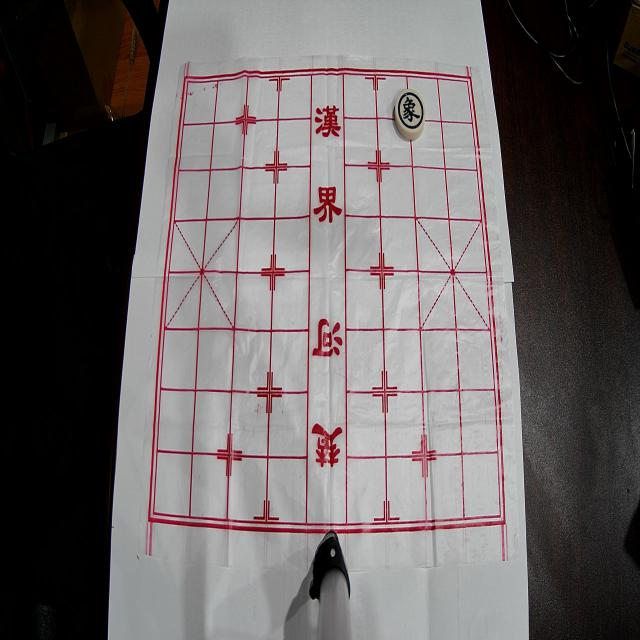black-elephant: (394, 89, 426, 140)
